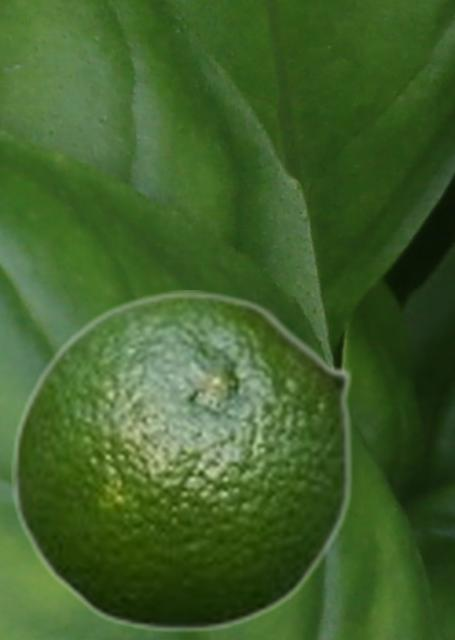calamansi: (11, 290, 354, 633)
